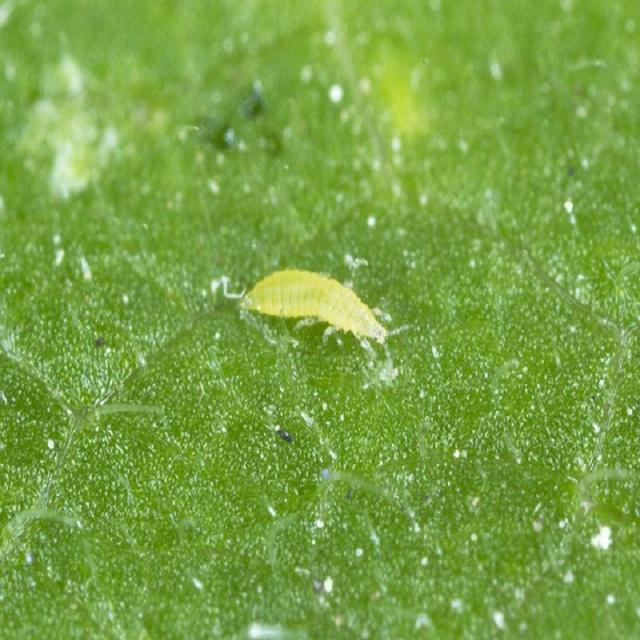Thrip-Larva-: (218, 243, 398, 361)
